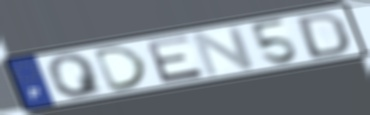5: (246, 16, 302, 66)
D: (92, 44, 152, 94), (295, 11, 352, 61)
E: (143, 33, 207, 85)
N: (189, 24, 259, 79)
Q: (44, 52, 108, 99)
